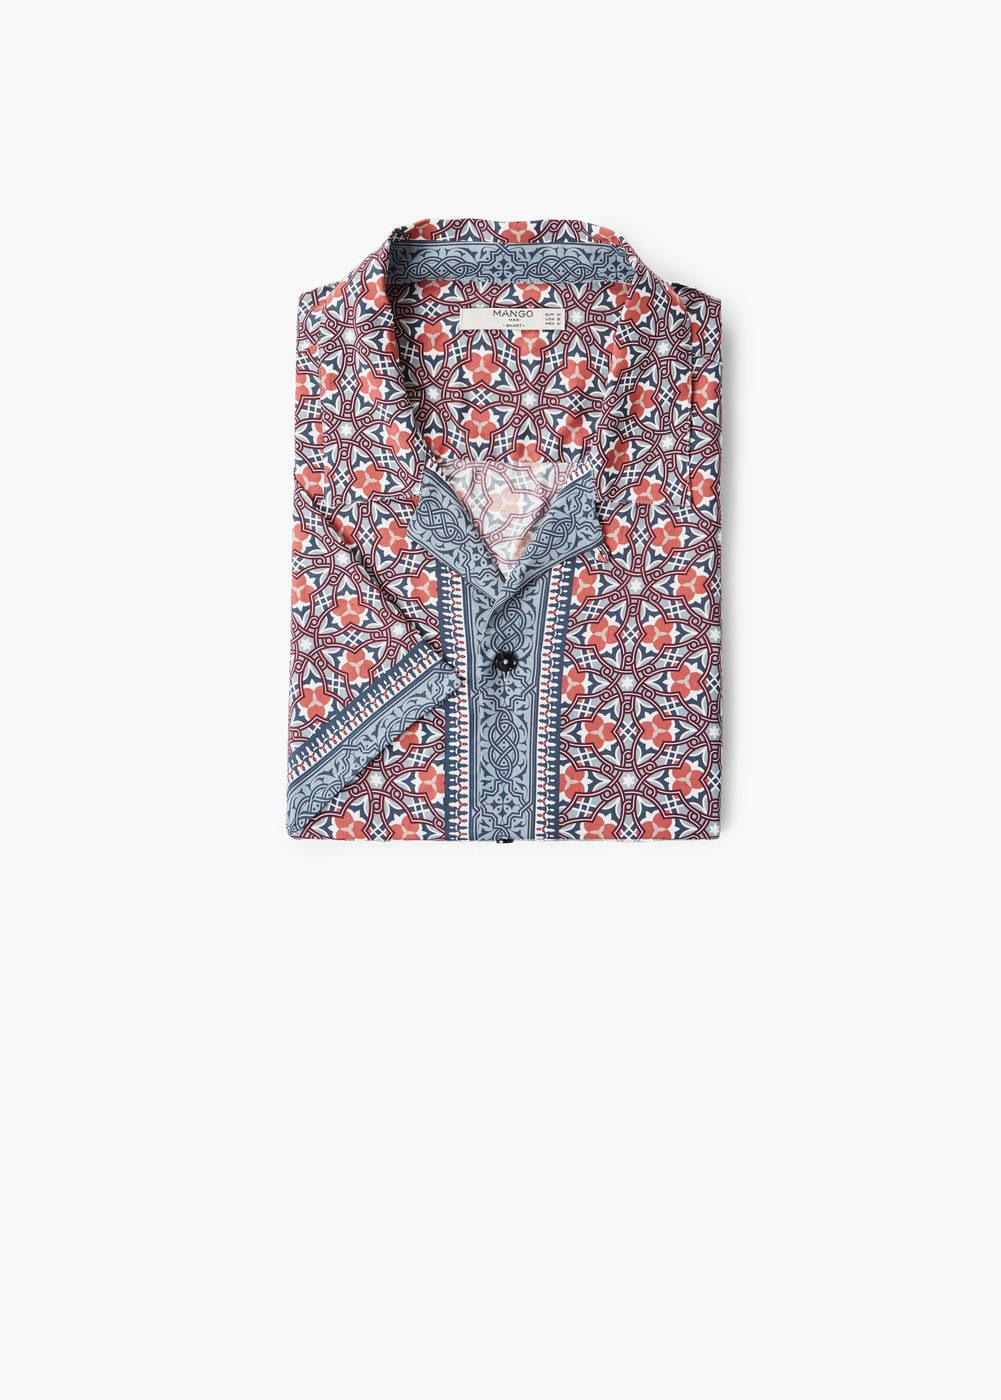teeshirt: (265, 178, 747, 891)
